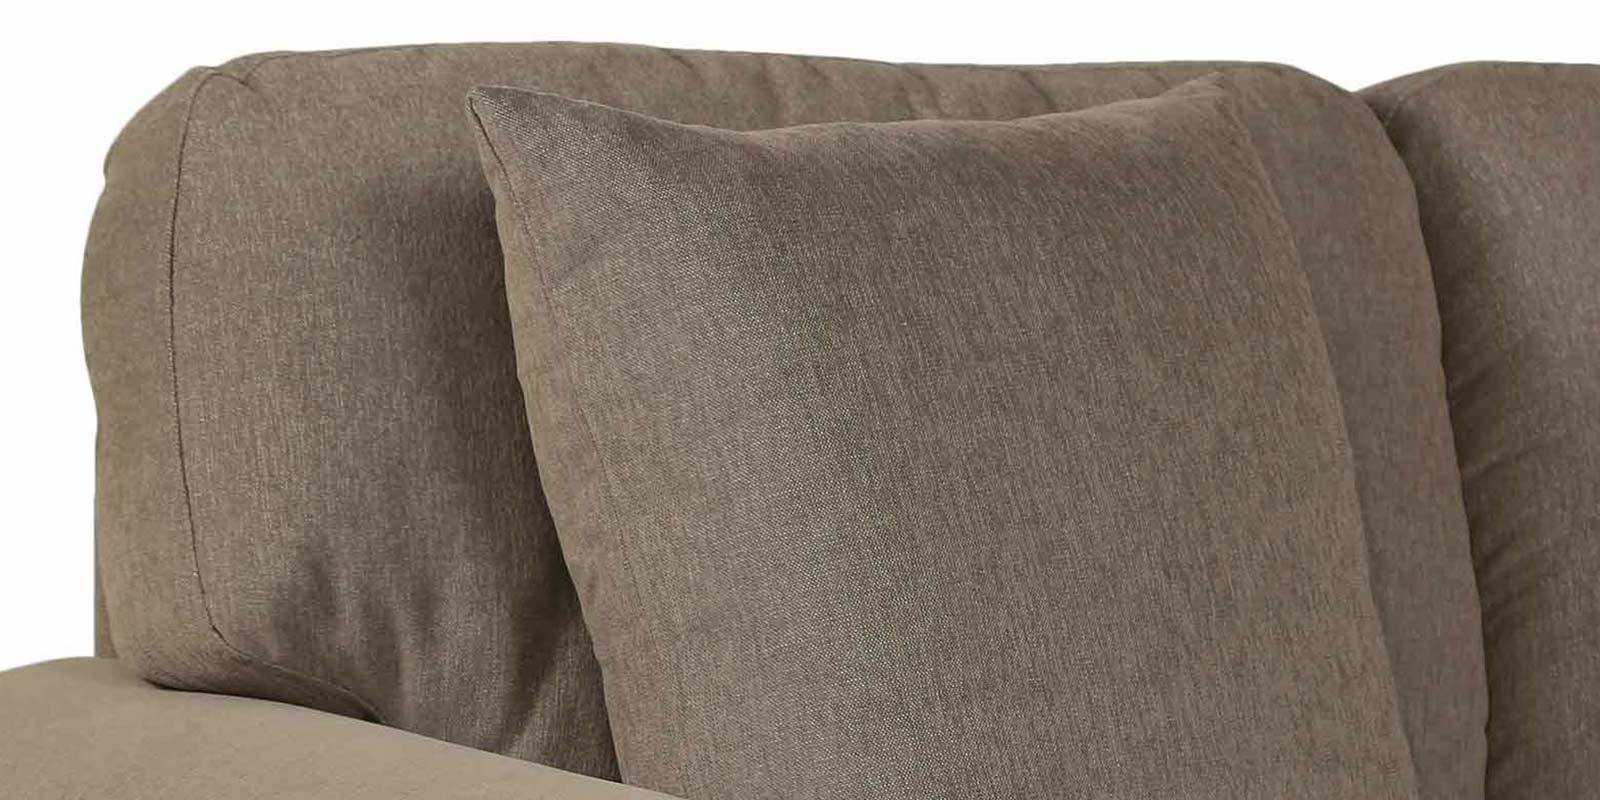Madeira Three Seater Sofa in Sandy Brown Colour by CasaCraft: (1, 39, 1600, 797)
